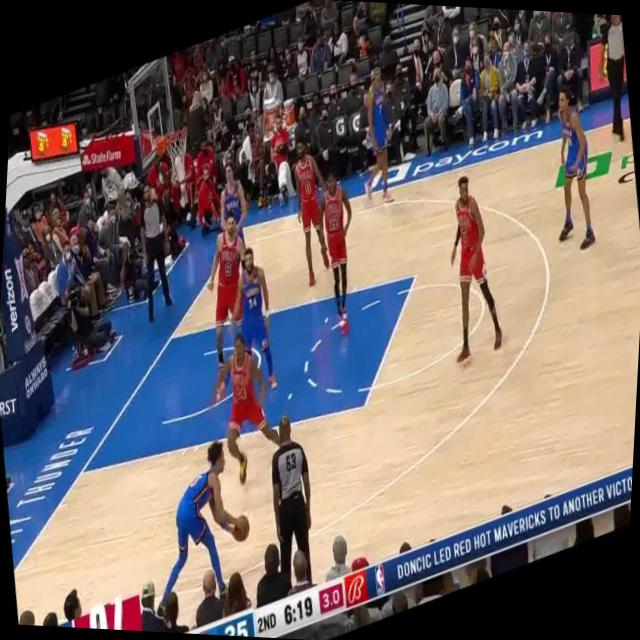ball-handler: (126, 420, 264, 632)
